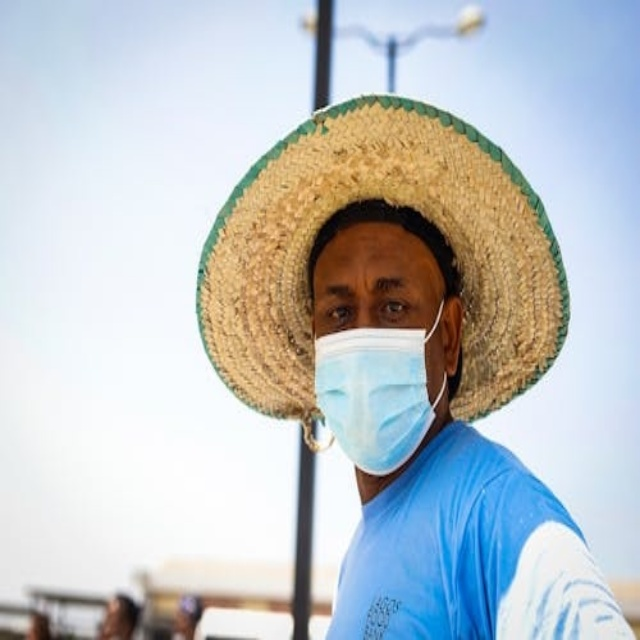Mascara: (314, 297, 446, 474)
Sin_gafas: (312, 271, 420, 325)
